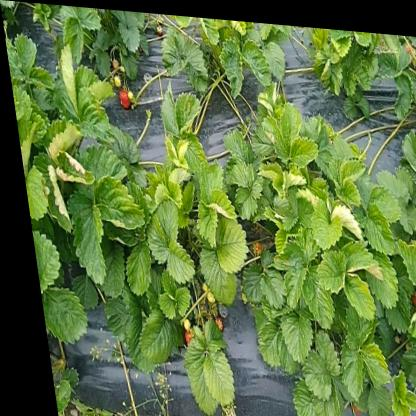ripe: (338, 390, 354, 412), (402, 281, 415, 301), (116, 87, 128, 107), (245, 237, 256, 252), (154, 22, 164, 38), (205, 315, 215, 328), (175, 328, 183, 341)
unripe: (199, 289, 207, 300), (112, 75, 120, 86), (174, 318, 182, 328), (125, 89, 132, 98)
